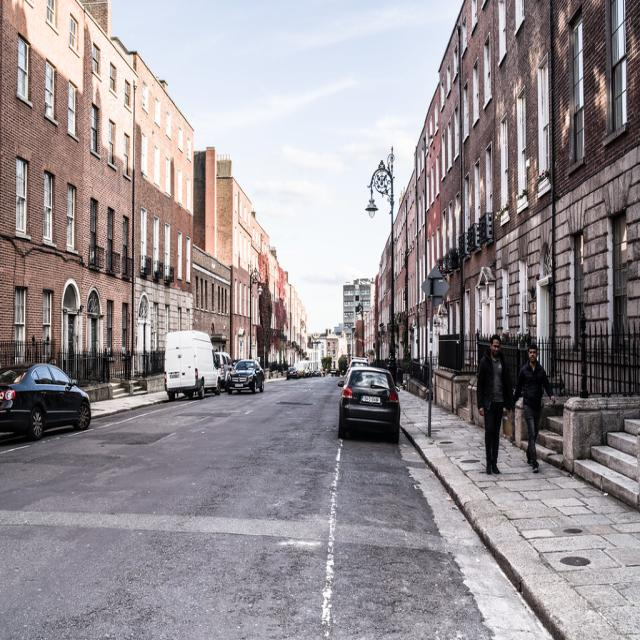Street Light: (365, 154, 396, 394), (249, 269, 263, 370)
